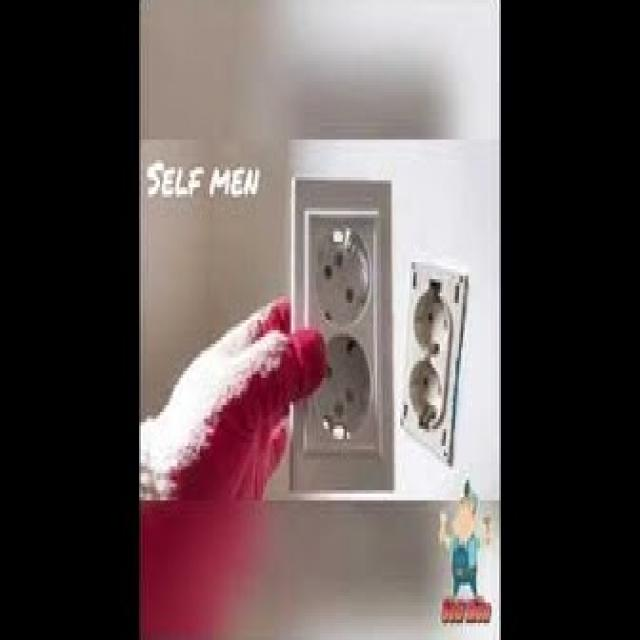typeb: (282, 112, 404, 533)
